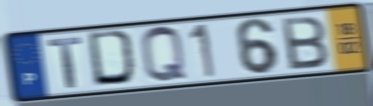1: (188, 22, 217, 80)
6: (234, 16, 282, 76)
B: (278, 14, 330, 72)
D: (86, 29, 142, 89)
Q: (138, 24, 190, 86)
T: (45, 35, 84, 90)
